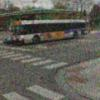buses: (10, 19, 90, 46)
